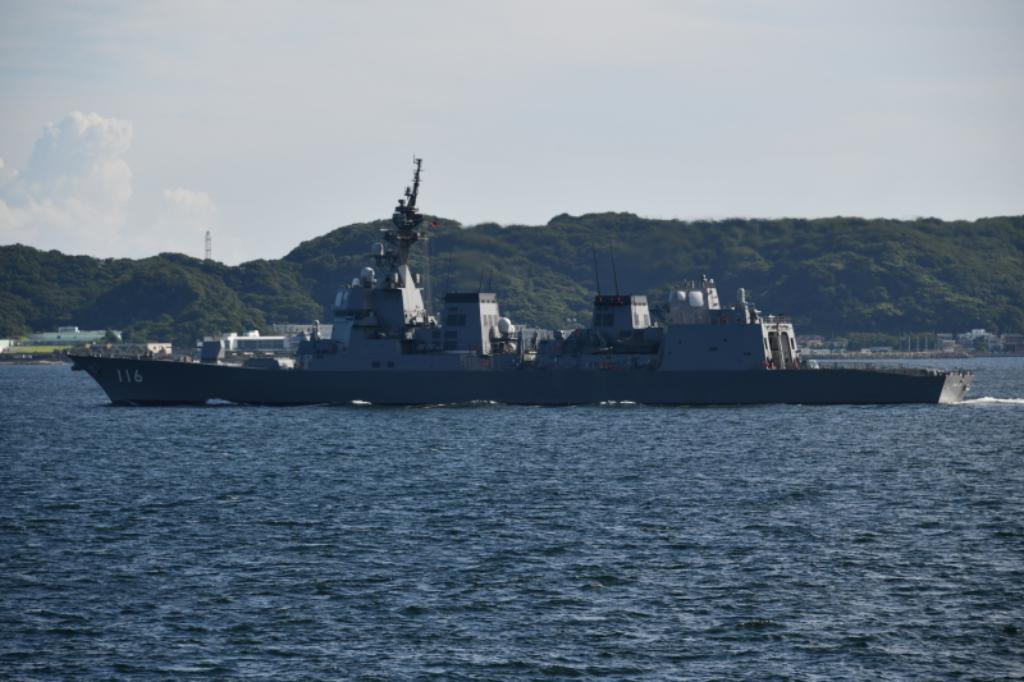Warship: (68, 151, 988, 408)
